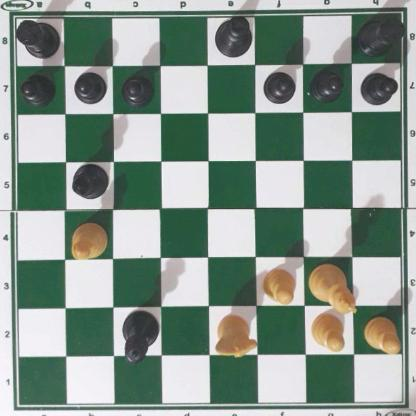black-bishop: (71, 164, 109, 200)
black-king: (212, 15, 253, 58)
black-pawn: (360, 69, 396, 105), (20, 71, 54, 104), (263, 67, 295, 102), (311, 67, 343, 101), (73, 70, 104, 104), (121, 71, 152, 105)
black-queen: (123, 308, 159, 365)
black-rook: (358, 14, 407, 56), (13, 16, 61, 58)
white-bishop: (70, 221, 107, 261)
white-king: (309, 265, 358, 314)
white-knight: (213, 314, 257, 357)
white-pawn: (309, 313, 347, 353), (363, 315, 400, 353), (262, 266, 296, 303)
